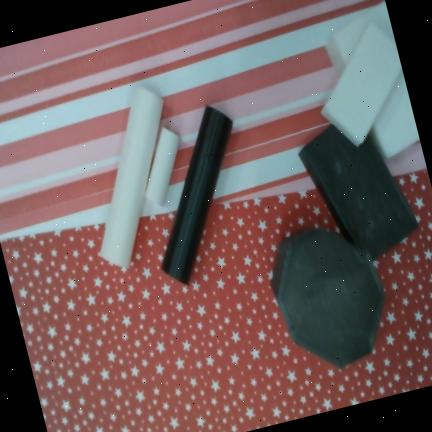Cilindro: (161, 104, 233, 285), (100, 87, 164, 269), (144, 125, 181, 207)
Paralelepipedo: (297, 123, 419, 260), (324, 2, 419, 158), (319, 24, 401, 147)
Prisma_hexagonal: (271, 227, 386, 370)
